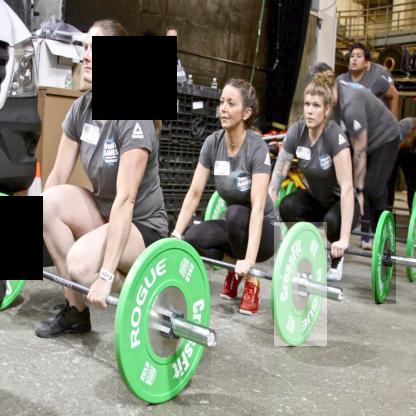barbell: (119, 240, 212, 406), (275, 224, 328, 348), (376, 211, 397, 305)
